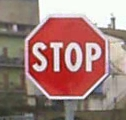stop: (23, 13, 109, 100)
